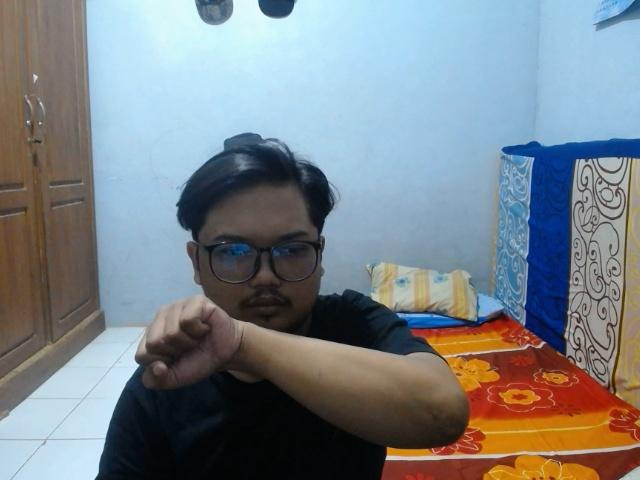Grab: (129, 293, 254, 393)
